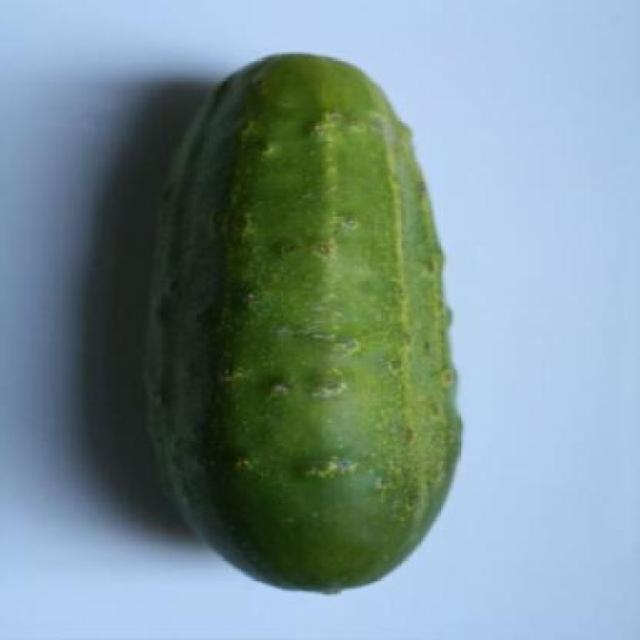Cucumber: (134, 51, 466, 595)
